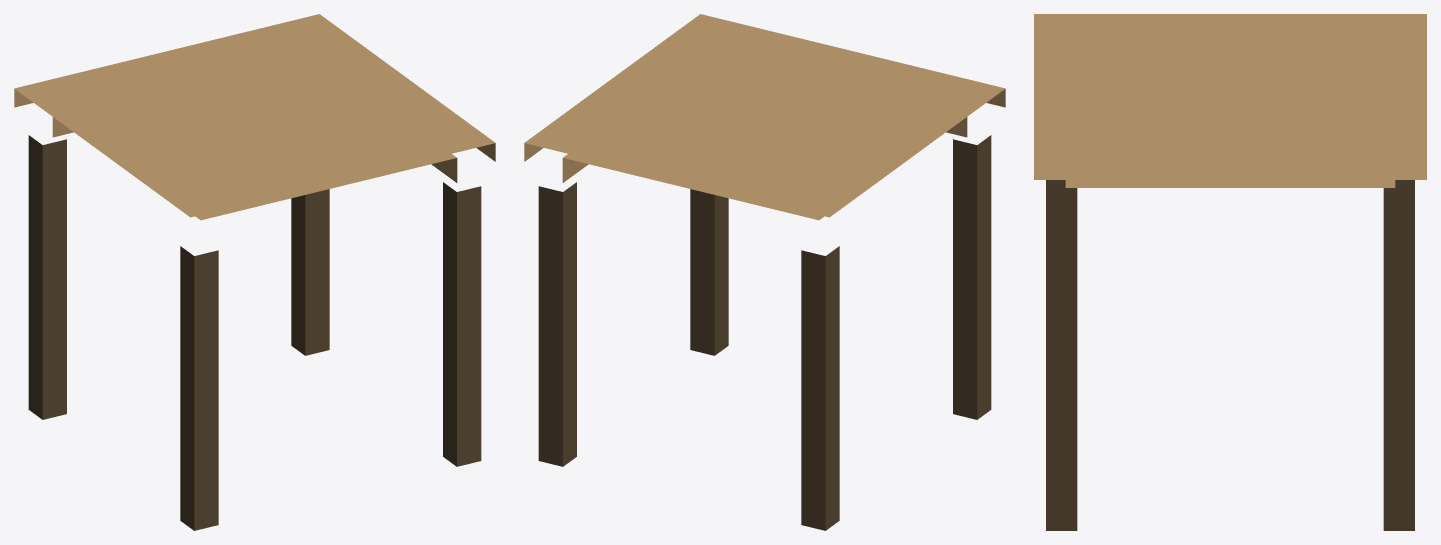
File: Table-tan.glb
3 views of the same model, side by side, from view 1: azimuth 30°, elevation 25°; view 2: azimuth 150°, elevation 25°; view 3: azimuth 270°, elevation 25° (orthographic). The views are drawn at different scales.
Visible parts, largest first — view 1: Table; view 2: Table; view 3: Table.
Part boxes in pixels (x1,y1,x2,y2): Table: (14, 14, 495, 530); Table: (524, 14, 1005, 530); Table: (1034, 14, 1426, 530).
Bounding box in the file's own units: 1 × 1 × 1.
